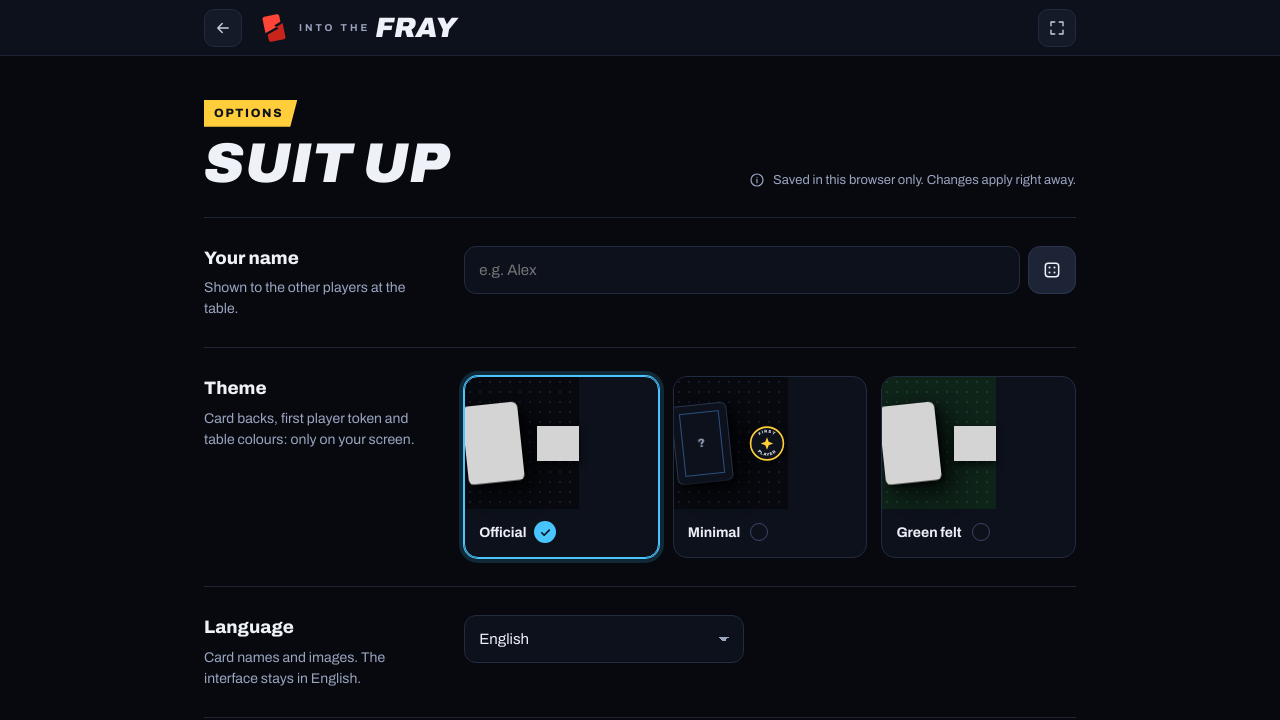
Options › removes a typed emoji from the input
In the field labelled "Your name": {"x": 742, "y": 270} [464,246,1020,294], type "Alex🔥"
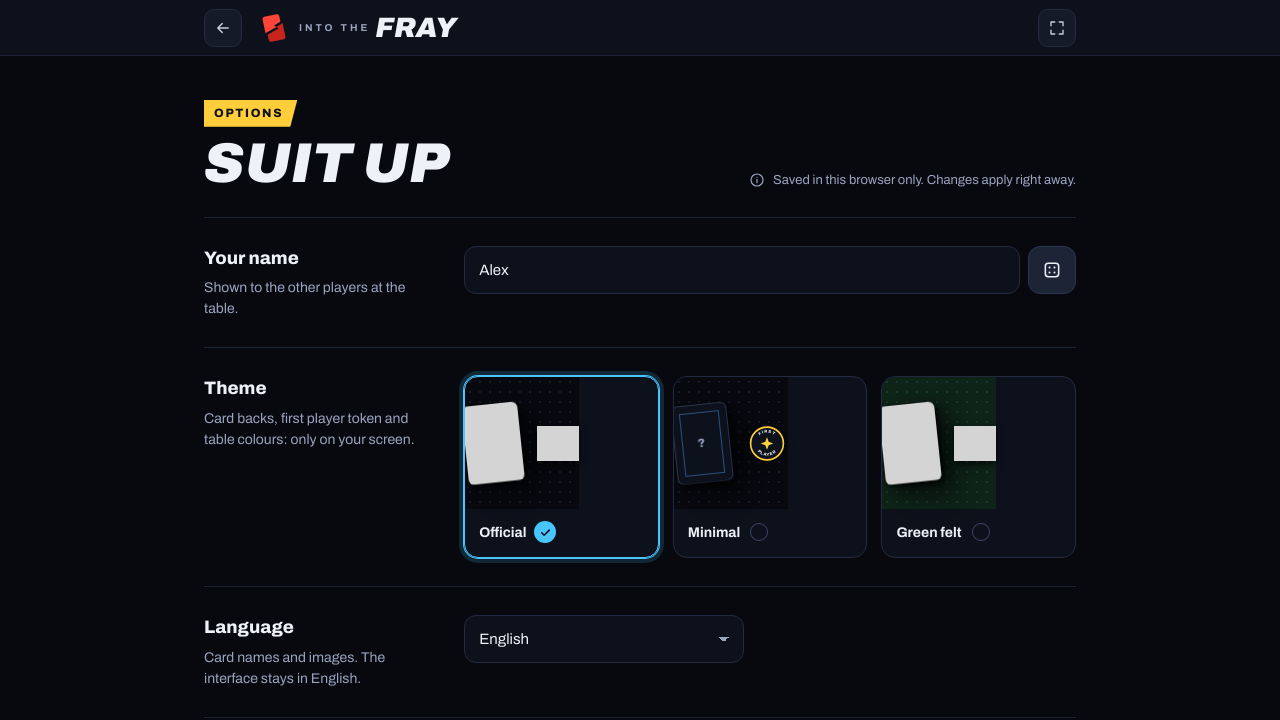
Now the field labelled "Your name" holds "Alex", box [464,246,1020,294]
